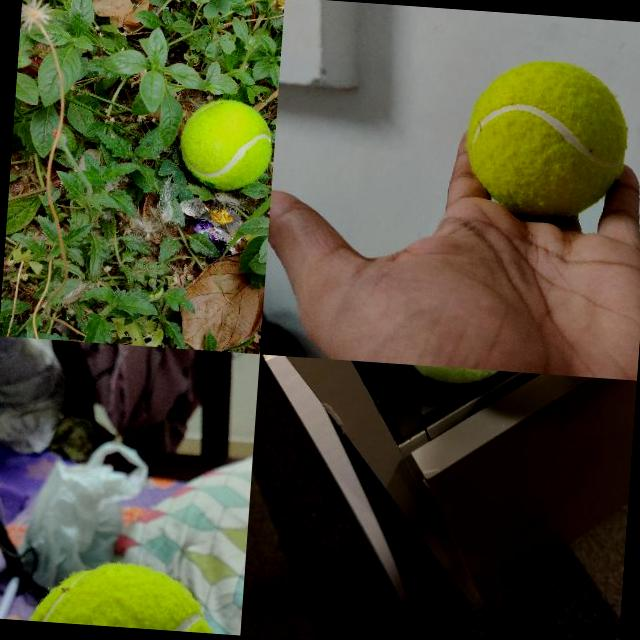Tennis Ball: (460, 55, 632, 224), (21, 554, 224, 633), (177, 97, 274, 192)
